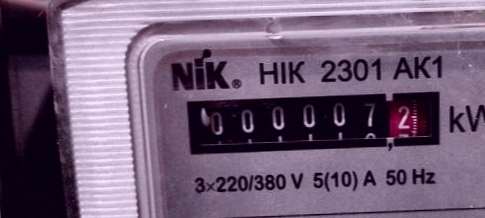0: (239, 107, 257, 136), (269, 105, 288, 132), (331, 100, 348, 129), (208, 110, 226, 137), (301, 102, 317, 129)
2: (396, 103, 413, 132)
7: (361, 101, 378, 130)
screen: (179, 83, 453, 161)
